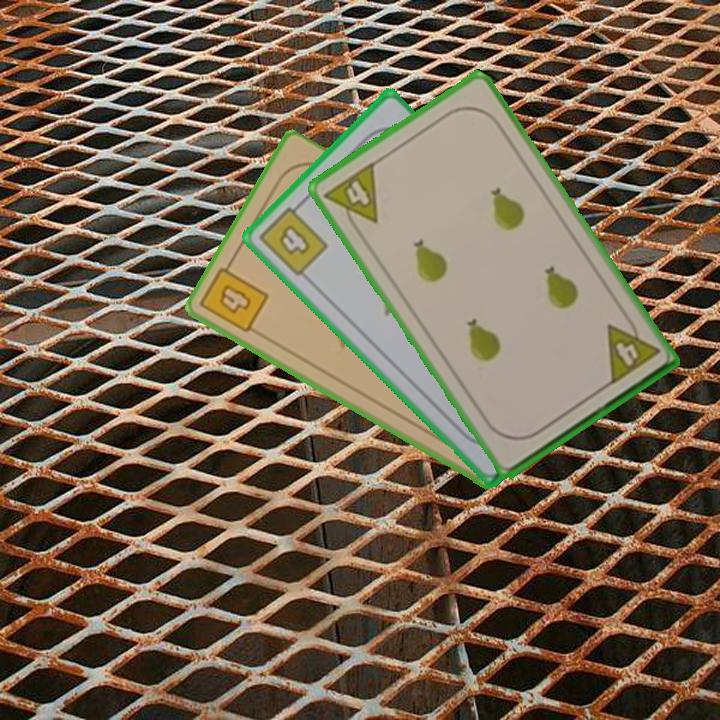4b: (255, 197, 331, 279), (197, 256, 272, 337)
4p: (320, 158, 381, 237), (602, 311, 662, 388)
